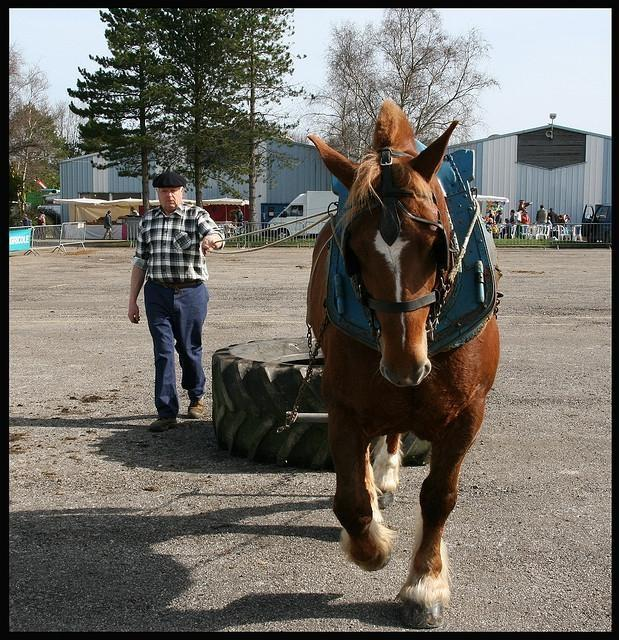truck: (265, 190, 342, 246), (581, 202, 611, 224)
